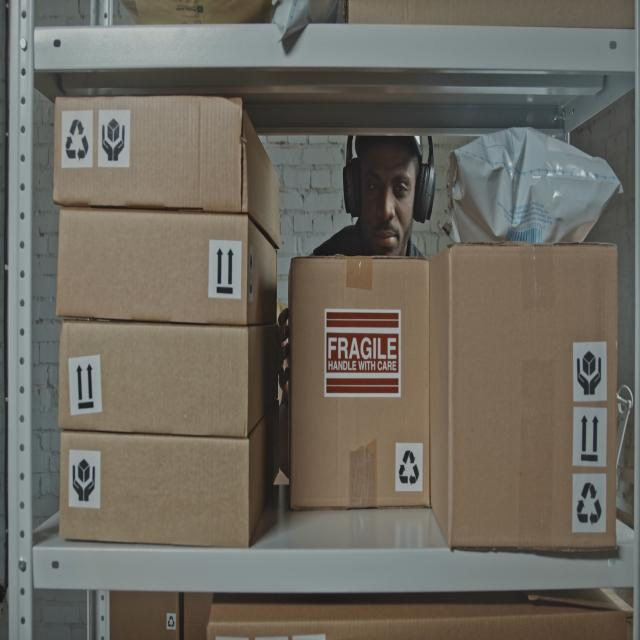counting-the-number-of-boxes: (429, 244, 618, 549), (287, 256, 430, 510), (54, 97, 280, 249), (59, 399, 279, 549), (56, 209, 277, 325), (58, 322, 279, 437)
